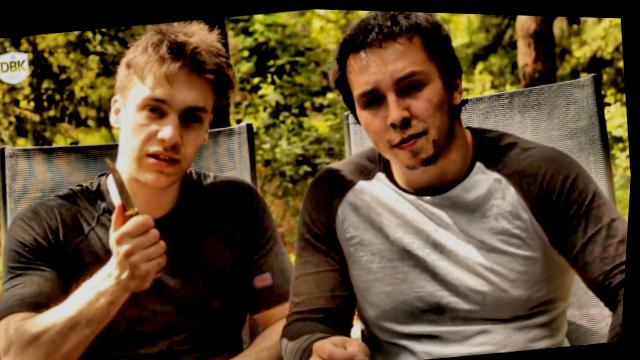knife: (89, 140, 180, 270)
